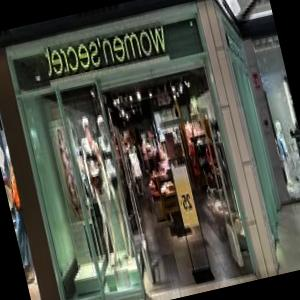women_secret: (36, 16, 174, 85)
